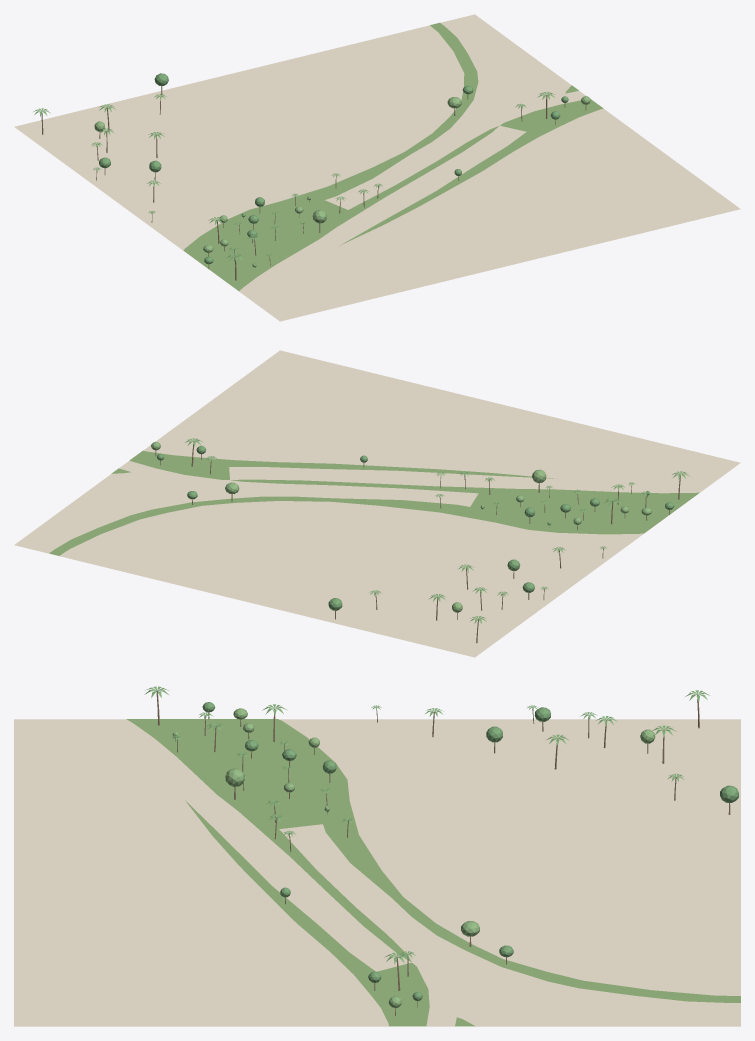
Rendered from nature_-3_-2.glb.
The picture shows the model from 3 angles, top to bottom: view 1: azimuth 30°, elevation 25°; view 2: azimuth 150°, elevation 25°; view 3: azimuth 270°, elevation 25°; orthographic projection. The views are drawn at different scales.
Visible parts, largest first — view 1: ground, grass, palm_leaf, foliage_a, trunk, foliage_b; view 2: ground, grass, palm_leaf, foliage_a, trunk, foliage_b; view 3: ground, grass, palm_leaf, foliage_a, foliage_b, trunk.
Part boxes in pixels (left/top/right/bottom): ground: left=14, top=14, right=740, bottom=321; grass: left=183, top=22, right=603, bottom=290; palm_leaf: left=33, top=92, right=555, bottom=261; foliage_a: left=99, top=73, right=568, bottom=264; trunk: left=41, top=86, right=586, bottom=280; foliage_b: left=94, top=96, right=590, bottom=267; ground: left=14, top=350, right=740, bottom=657; grass: left=49, top=450, right=699, bottom=555; palm_leaf: left=185, top=438, right=689, bottom=623; foliage_a: left=157, top=445, right=674, bottom=610; trunk: left=155, top=444, right=680, bottom=643; foliage_b: left=151, top=441, right=651, bottom=612; ground: left=14, top=719, right=740, bottom=1026; grass: left=126, top=719, right=740, bottom=1026; palm_leaf: left=144, top=686, right=710, bottom=964; foliage_a: left=202, top=702, right=738, bottom=1001; foliage_b: left=172, top=708, right=655, bottom=1007; trunk: left=156, top=691, right=730, bottom=1015.
Size of the model in its own units: 252 by 13.35 by 250.
